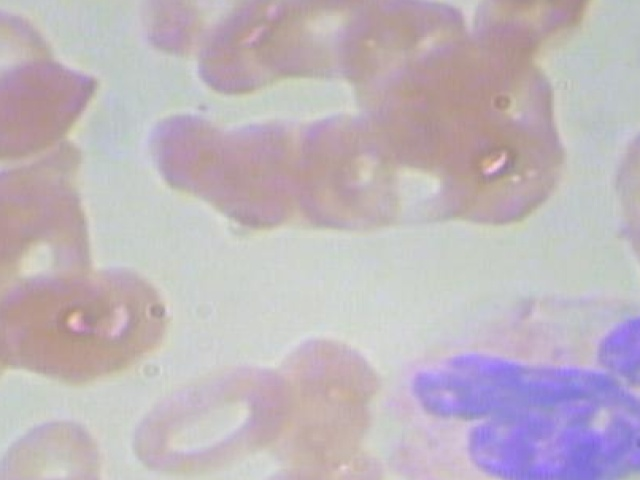RBC: (246, 329, 393, 475), (424, 88, 572, 228), (124, 354, 285, 479), (25, 251, 172, 385), (186, 0, 372, 101), (0, 153, 97, 301), (205, 111, 312, 237), (0, 267, 113, 375), (0, 51, 102, 159), (137, 103, 237, 213), (119, 0, 285, 61), (0, 406, 121, 480), (0, 0, 64, 127), (600, 114, 640, 274), (450, 0, 621, 4)
WBC: (378, 293, 640, 480)
